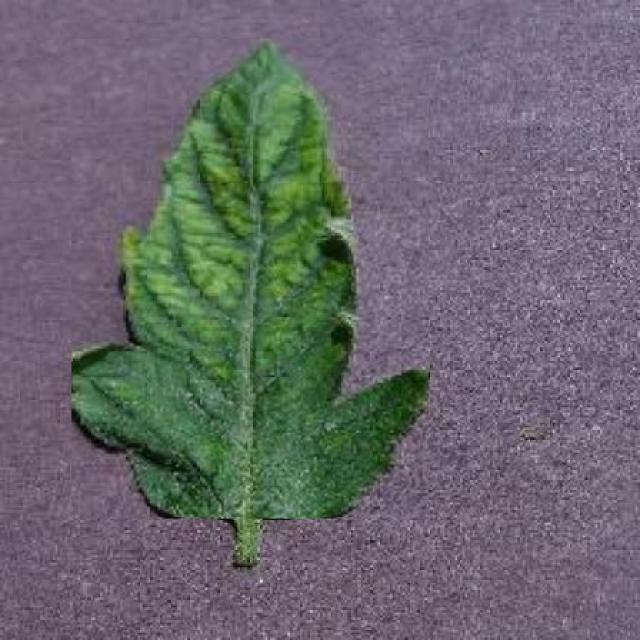Mosaic Virus: (72, 39, 428, 520)
